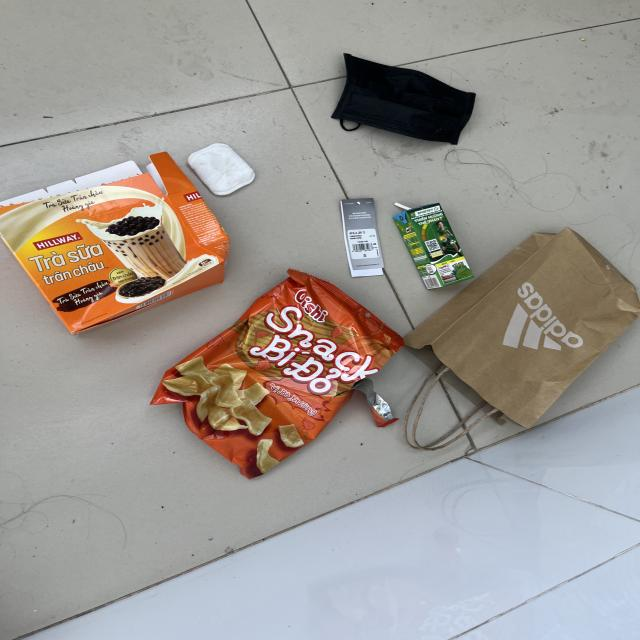bag: (404, 225, 640, 452)
cardboard box: (0, 152, 231, 336)
mask: (330, 52, 476, 146)
milk box: (392, 201, 475, 291)
paper: (339, 197, 386, 278)
snack package: (148, 266, 406, 480)
